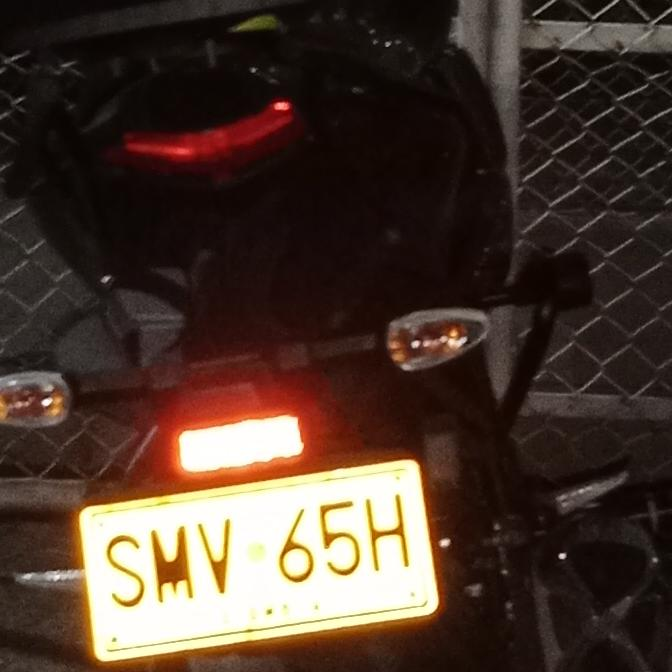plates: (74, 457, 449, 667)
